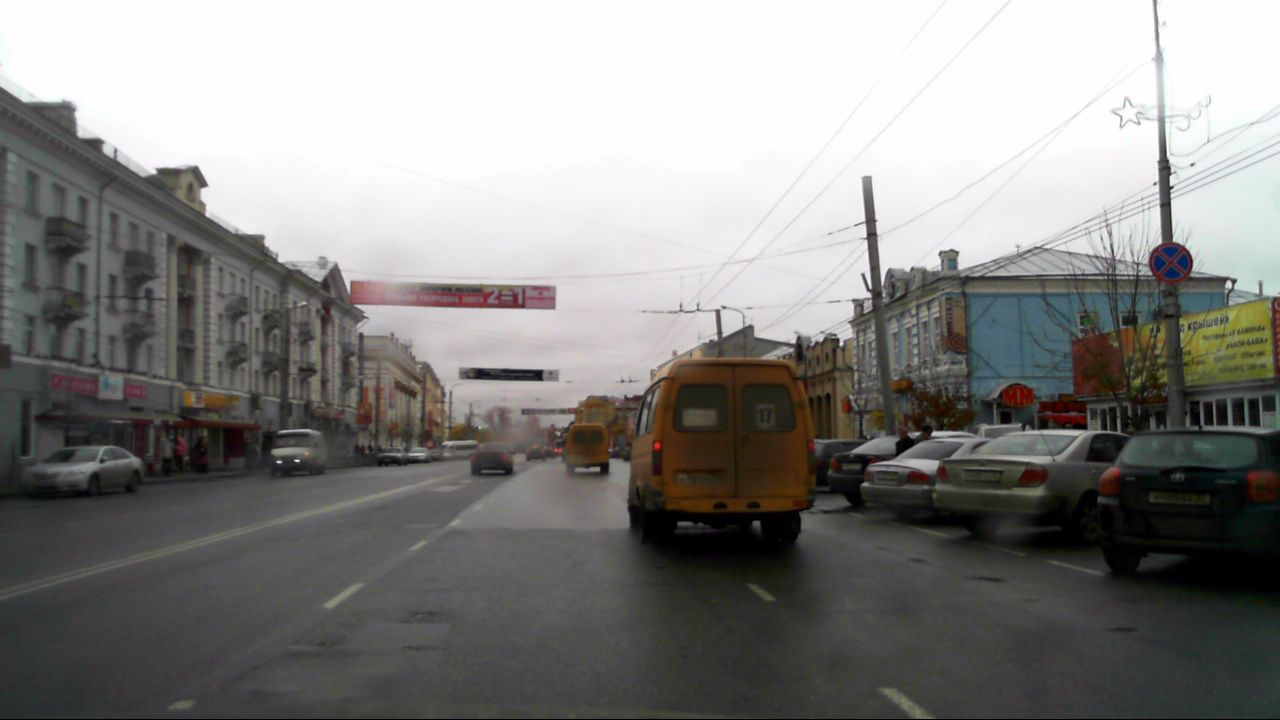No Parking: (1148, 241, 1193, 283)
